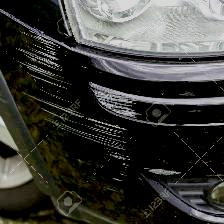bumper_scratch: (9, 24, 140, 178)
